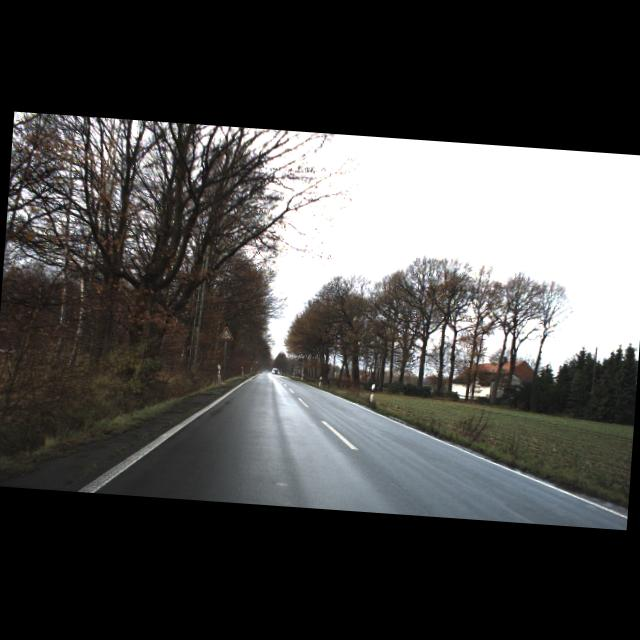danger: (218, 325, 234, 340)
